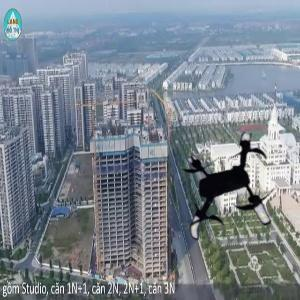drone: (170, 133, 292, 255)
